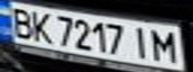1: (90, 19, 109, 54)
2: (69, 16, 93, 52)
7: (106, 20, 130, 56), (51, 12, 75, 47)
B: (3, 5, 36, 39)
I: (127, 25, 154, 60)
K: (27, 8, 54, 44)
M: (148, 26, 184, 63)
